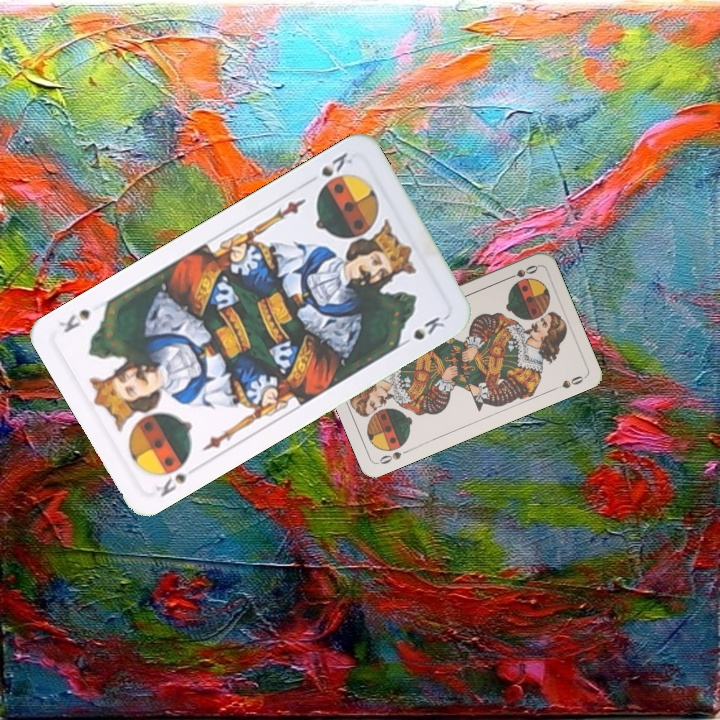SK: (149, 454, 201, 500), (317, 148, 356, 180)
SO: (502, 261, 541, 283), (374, 445, 413, 467)
